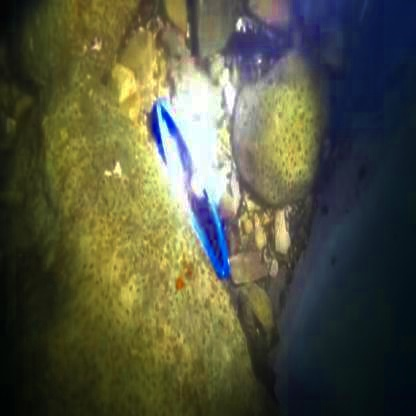sunglasses: (142, 93, 251, 330)
